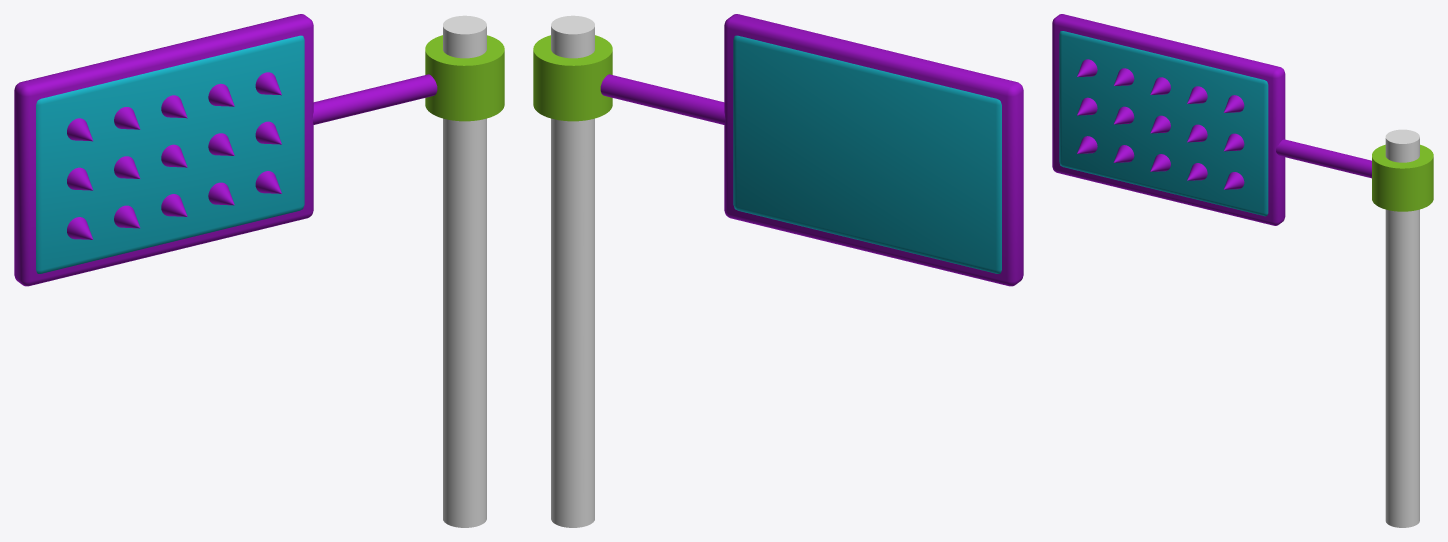
File: đập ván.fbx
3 views of the same model, side by side, from view 1: azimuth 30°, elevation 25°; view 2: azimuth 150°, elevation 25°; view 3: azimuth 330°, elevation 25° (orthographic). The views are drawn at different scales.
Parts seen in each view (by area): view 1: Cone, Cylinder_1, Tube, Cylinder; view 2: Cone, Cylinder_1, Tube, Cylinder; view 3: Cone, Cylinder_1, Tube, Cylinder.
Part boxes in pixels (x1,y1,x2,y2): Cone: (14, 14, 313, 286); Cylinder_1: (443, 15, 486, 527); Tube: (425, 35, 504, 121); Cylinder: (312, 74, 437, 124); Cone: (724, 14, 1023, 286); Cylinder_1: (551, 15, 594, 527); Tube: (533, 35, 612, 121); Cylinder: (600, 74, 725, 124); Cone: (1052, 14, 1285, 225); Cylinder_1: (1385, 129, 1419, 527); Tube: (1372, 144, 1433, 211); Cylinder: (1276, 139, 1371, 178).
Size of the model in its own units: 204 by 220 by 31.98.
